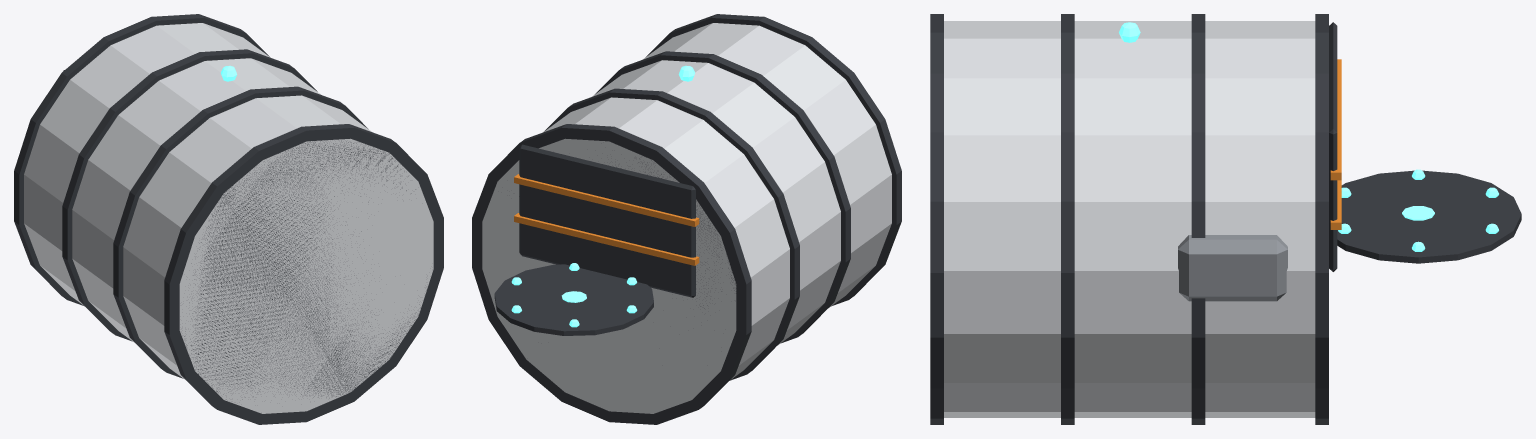
The model's file is hangar.glb.
3 renders of one model, left to right at view 1: azimuth 30°, elevation 25°; view 2: azimuth 150°, elevation 25°; view 3: azimuth 270°, elevation 25°, orthographic. The views are drawn at different scales.
Parts seen in each view (by area): view 1: hangar; view 2: hangar; view 3: hangar.
Boxes of the visible parts, x1=… form: hangar: x1=14, y1=14, x2=443, y2=424; hangar: x1=472, y1=14, x2=901, y2=424; hangar: x1=930, y1=14, x2=1521, y2=424.
Bounding box in the file's own units: 2.98 × 3.08 × 4.3.
